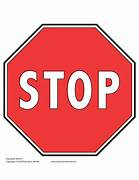stop: (4, 22, 137, 155)
